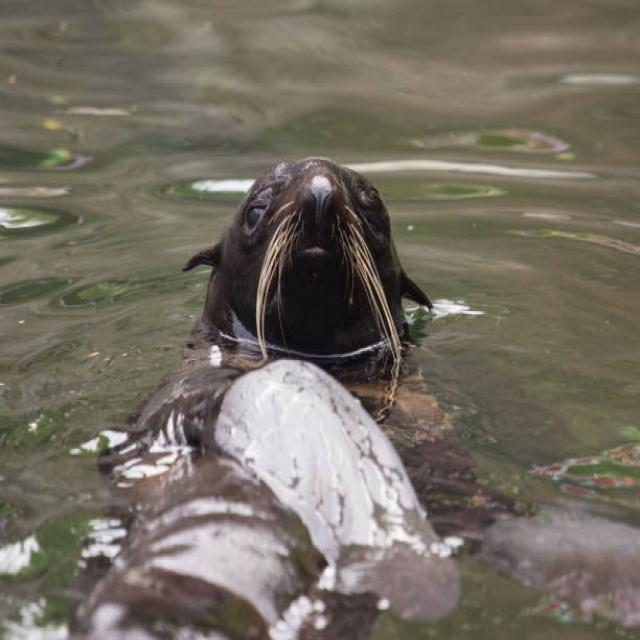WaterDog: (182, 152, 438, 383)
